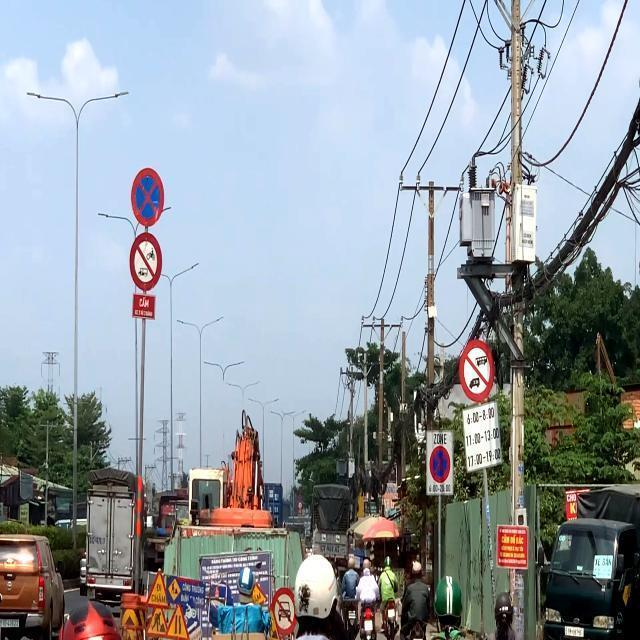103a-cam-oto: (270, 588, 298, 636)
130-cam-dung-va-do-xe: (130, 167, 166, 225), (430, 446, 452, 482)
203-duong-bi-hep: (165, 604, 192, 640)
227-cong-truong: (144, 606, 172, 638)
245-di-cham: (146, 568, 170, 610)
